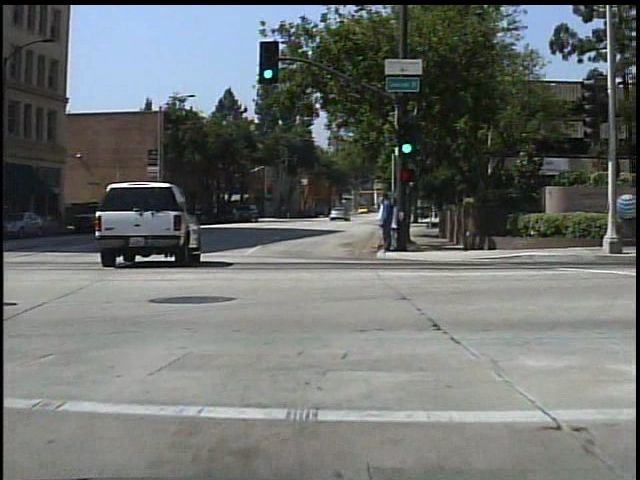person: (374, 189, 398, 255), (377, 194, 395, 252)
